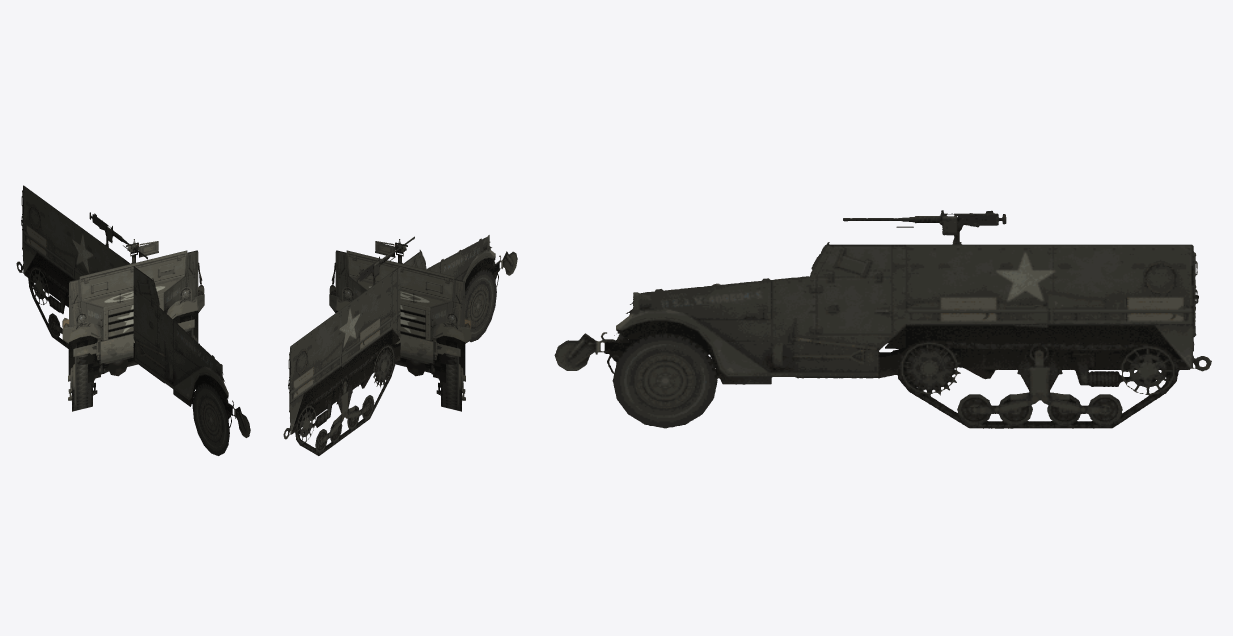
The model's file is m3_halftrack_42manako_m_bb.glb.
3 renders of one model, left to right at view 1: azimuth 30°, elevation 25°; view 2: azimuth 150°, elevation 25°; view 3: azimuth 270°, elevation 25°, orthographic. The views are drawn at different scales.
Parts seen in each view (by area): view 1: m3_halftrack_42manako_m_bb; view 2: m3_halftrack_42manako_m_bb; view 3: m3_halftrack_42manako_m_bb.
Part boxes in pixels (x1,y1,x2,y2): m3_halftrack_42manako_m_bb: (16,185,250,455); m3_halftrack_42manako_m_bb: (283,235,517,455); m3_halftrack_42manako_m_bb: (554,210,1211,428).
Bounding box in the file's own units: 2.34 × 6.32 × 6.32.
Materials: 1 (1 with a texture image).
